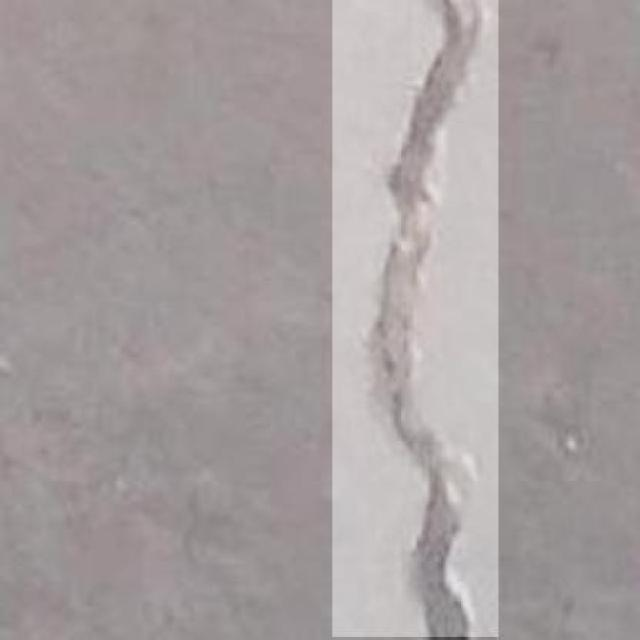Crack: (331, 0, 504, 636)
